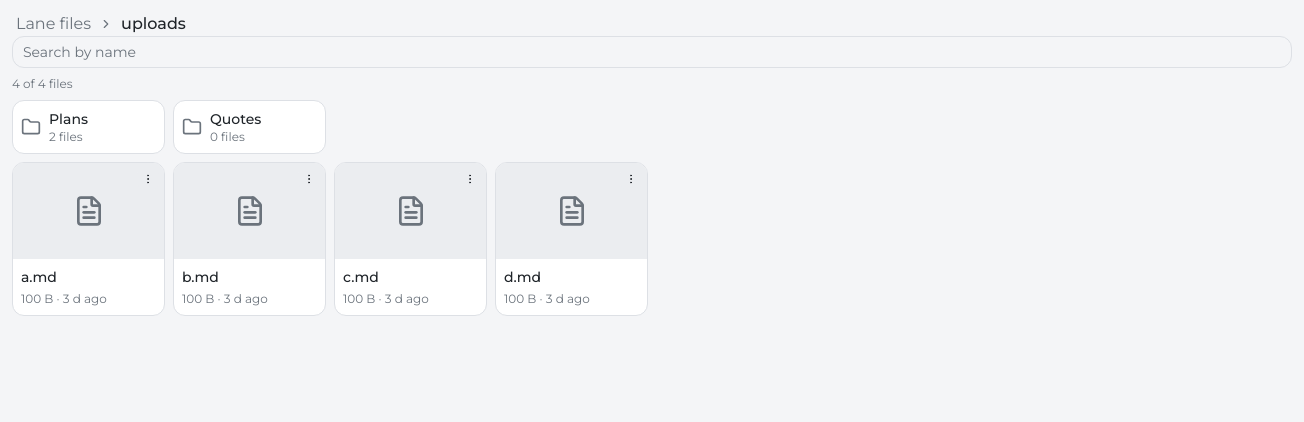
Test: right-click menus › Delete is disabled for a member who is not an owner
Right-click the list item with test id "file-tile" showing "a.md 100 B · 3 d ago".
right_click(88, 239)  # box left=12, top=162, right=165, bottom=316
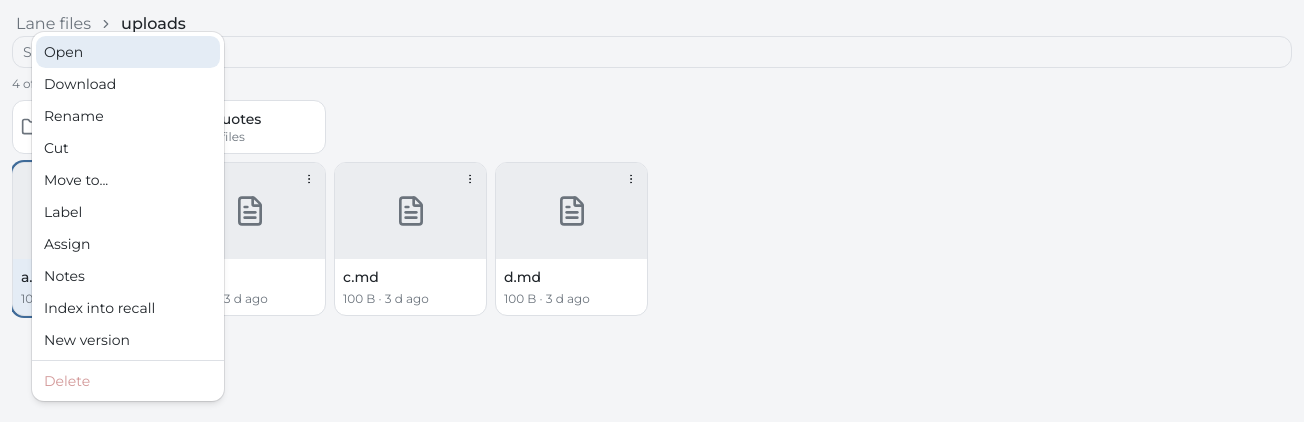
Now the menu item with test id "menu-delete" is disabled, box left=36, top=365, right=220, bottom=397
